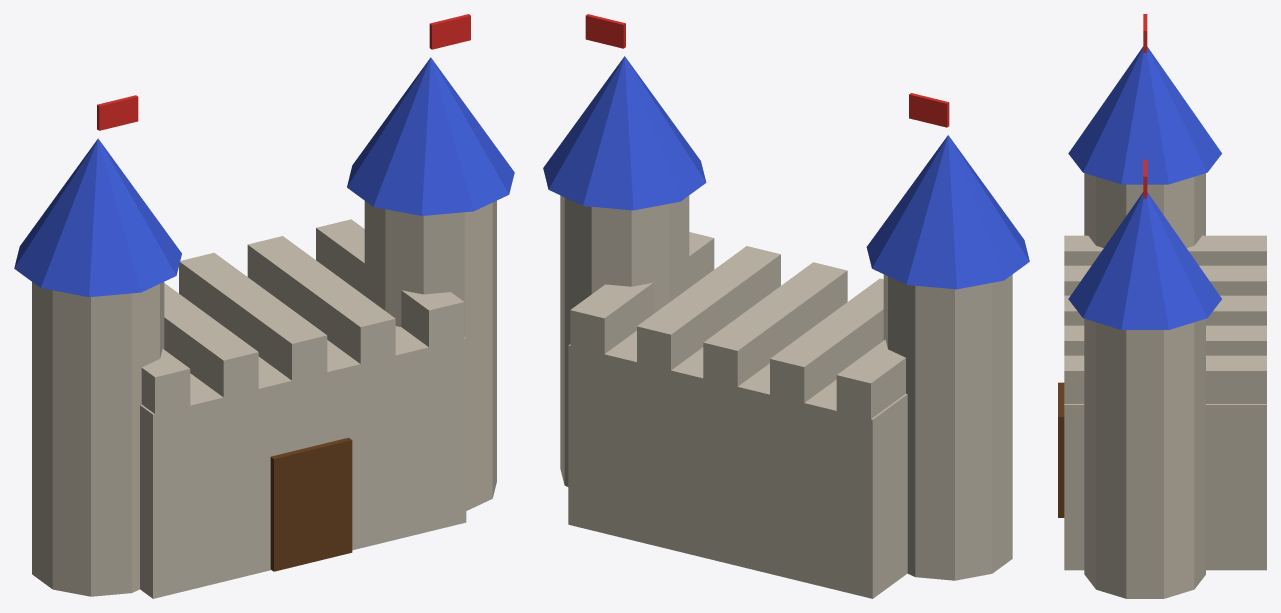
The model's file is float_castle.glb.
The picture shows the model from 3 angles, left to right: view 1: azimuth 30°, elevation 25°; view 2: azimuth 150°, elevation 25°; view 3: azimuth 270°, elevation 25°; orthographic projection. The views are drawn at different scales.
Parts seen in each view (by area): view 1: walls_castle_stone, towers_castle_stone, towers_castle_roof, walls_castle_door, flags_castle_flag (×2); view 2: walls_castle_stone, towers_castle_stone, towers_castle_roof, flags_castle_flag (×2); view 3: towers_castle_stone, walls_castle_stone, towers_castle_roof, walls_castle_door.
Part boxes in pixels (box(x1,y1,x2,y2)): walls_castle_stone: box(140, 219, 466, 598); towers_castle_stone: box(32, 200, 496, 596); towers_castle_roof: box(14, 57, 514, 297); walls_castle_door: box(270, 437, 352, 571); flags_castle_flag (×2): box(97, 14, 470, 130); walls_castle_stone: box(568, 232, 907, 598); towers_castle_stone: box(560, 195, 1012, 580); towers_castle_roof: box(543, 56, 1029, 289); flags_castle_flag (×2): box(585, 14, 949, 127); towers_castle_stone: box(1084, 173, 1205, 598); walls_castle_stone: box(1064, 235, 1266, 570); towers_castle_roof: box(1068, 46, 1221, 329); walls_castle_door: box(1058, 382, 1064, 517).
Bounding box in the file's own units: 2.42 × 2.26 × 1.03.
